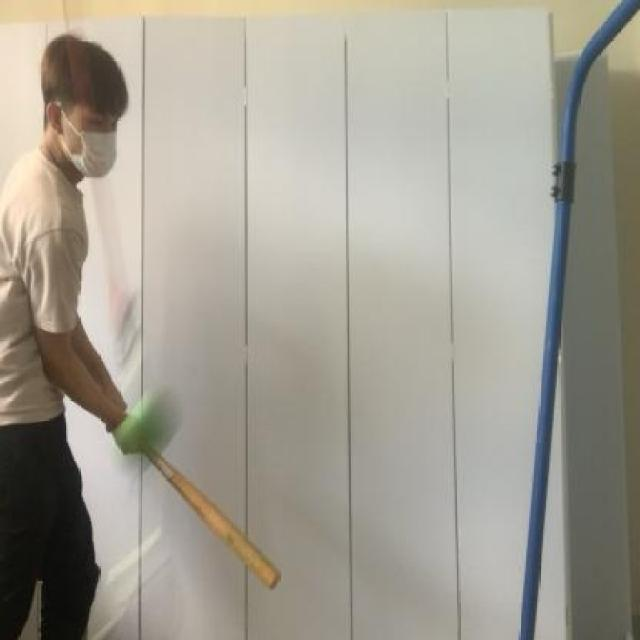baseball: (114, 372, 194, 473)
